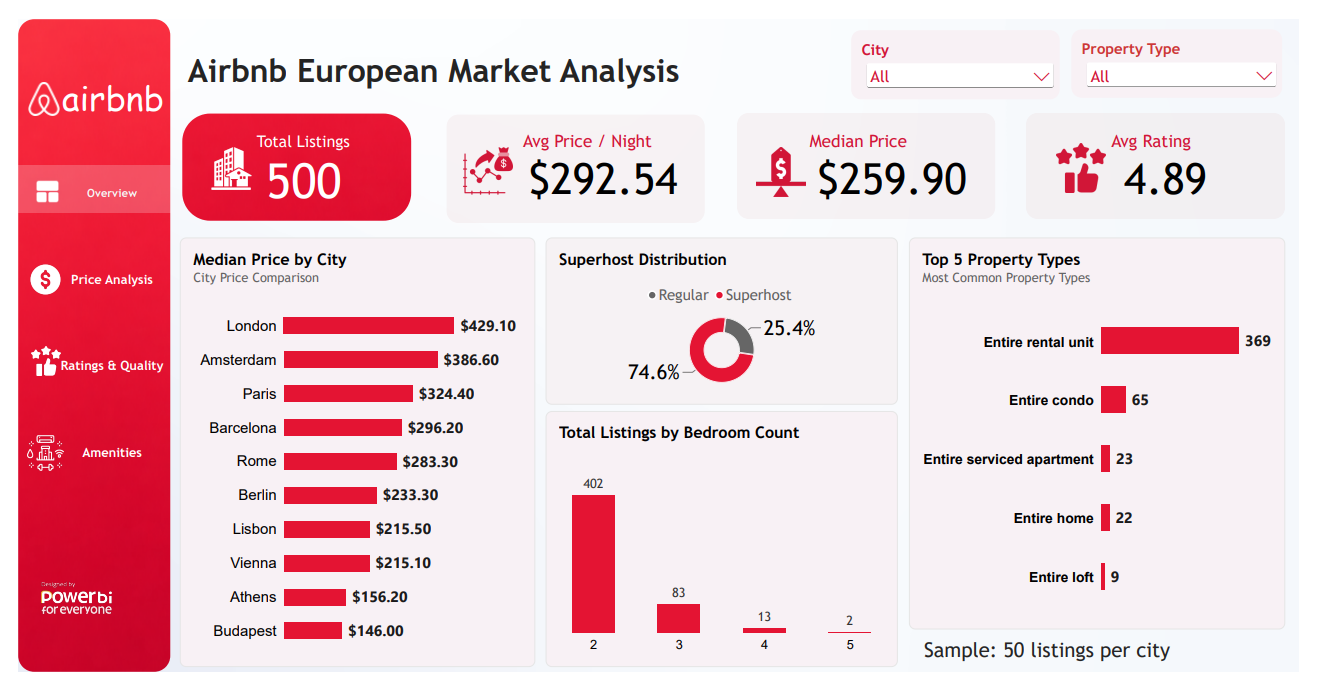

Layout of this report page (visuals, bound fields, positions):
{"tool":"powerbi","page":{"name":"Overview","canvas":[1600,816],"ordinal":0},"visuals":[{"type":"image","box":[0,0,189.5,816],"z":0},{"type":"image","box":[205.5,118.3,285.9,133.3],"z":1000},{"type":"cardVisual","fields":{"Data":["_Measures.Listings Count"]},"box":[294.3,159,164.9,84.6],"z":2000},{"type":"textbox","title":"Airbnb European Market Analysis","box":[211.6,41.3,858.5,46.5],"z":3000},{"type":"textbox","title":"Total Listings","box":[297.5,141.4,206.5,22.4],"z":4000},{"type":"image","box":[239.2,144.4,55,84.6],"z":5000},{"type":"shape","box":[535,119,323.4,135.9],"z":6000},{"type":"cardVisual","fields":{"Data":["_Measures.Avg Price"]},"box":[621,163.8,225.4,70.5],"z":7000},{"type":"textbox","title":"Avg Price / Night","box":[631.3,139.7,204.7,27.5],"z":8000},{"type":"image","box":[536.4,158.9,99.6,61],"z":9000},{"type":"shape","box":[18.9,197.9,33.9,33.5],"z":9000,"group":"g1"},{"type":"image","box":[22.8,200.5,26.8,28.4],"z":9500,"group":"g1"},{"type":"image","box":[10.6,76.1,42.3,46.5],"z":10000},{"type":"image","box":[29.1,681.7,87.4,82.1],"z":11000},{"type":"textbox","title":"airbnb","box":[55.1,67.7,148,66.1],"z":12000},{"type":"shape","box":[898,117.3,323.4,132.5],"z":13000},{"type":"cardVisual","fields":{"Data":["_Measures.Median Price"]},"box":[982.3,167.2,234,63.7],"z":14000},{"type":"textbox","title":"Median Price","box":[989.2,139.7,139.4,22.4],"z":15000},{"type":"image","box":[879,160.3,148,61.9],"z":16000},{"type":"donutChart","title":"Superhost Distribution","fields":{"Series":["GOLD fact_listings.Host Type"],"Y":["CountNonNull(GOLD fact_listings.listing_id)"]},"box":[658.6,273.1,440.9,209.4],"z":17000},{"type":"shape","box":[1259.3,117.3,323.4,132.5],"z":18000},{"type":"cardVisual","fields":{"Data":["_Measures.Avg Rating"]},"box":[1365.9,155.2,175.5,89.5],"z":19000},{"type":"textbox","title":"Avg Rating","box":[1365.9,139.7,215.1,27.5],"z":20000},{"type":"image","box":[1252.4,155.2,151.4,61.9],"z":21000},{"type":"slicer","title":"City","fields":{"Values":["GOLD fact_listings.property_type"]},"box":[1040.9,14.5,260.2,85.1],"z":22000},{"type":"clusteredBarChart","title":"Median Price by City","fields":{"Category":["GOLD fact_listings.city"],"Y":["_Measures.Median Price"]},"box":[202.4,273.1,443.3,536.5],"z":23000},{"type":"clusteredBarChart","title":"Top 5 Property Types","fields":{"Category":["GOLD fact_listings.property_type"],"Y":["_Measures.Listings Count"]},"box":[1113.2,273.1,469.8,490.2],"z":24000},{"type":"slicer","title":"Property Type","fields":{"Values":["GOLD fact_listings.property_type"]},"box":[1315.6,12.9,263.4,85.1],"z":25000},{"type":"columnChart","title":"Total Listings by Bedroom Count","fields":{"Category":["GOLD fact_listings.bedrooms"],"Y":["_Measures.Listings Count"]},"box":[658.6,489.9,440.1,319.7],"z":26000},{"type":"textbox","title":"Sample: 50 listings per city","box":[1132.4,774.2,395.1,30.5],"z":27000},{"type":"group","id":"g1","title":"Group 1","box":[18.9,197.9,35.7,34.4],"z":28000},{"type":"image","box":[14.9,408.9,38.7,37.2],"z":29000},{"type":"pageNavigator","box":[26.8,168,181.4,425.3],"z":30000},{"type":"shape","box":[0,182.9,190.5,59],"z":31000},{"type":"image","box":[11.4,512.4,45.7,59],"z":32000},{"type":"image","box":[13.4,304.8,41.6,40.1],"z":33000}]}

Visuals, with their boxes in screenshot pixels (x1, y1, x2, y2), scaled from the page's 1600x816 canvas onto the 1317x690 screenshot:
image: (0,0,156,689)
image: (169,100,404,213)
cardVisual - _Measures.Listings Count: (242,134,378,206)
"Airbnb European Market Analysis" textbox: (174,35,881,74)
"Total Listings" textbox: (245,120,415,139)
image: (197,122,242,194)
shape: (440,101,707,216)
cardVisual - _Measures.Avg Price: (511,139,697,198)
"Avg Price / Night" textbox: (520,118,688,141)
image: (442,134,524,186)
shape: (16,167,43,196)
image: (19,170,41,194)
image: (9,64,44,104)
image: (24,576,96,646)
"airbnb" textbox: (45,57,167,113)
shape: (739,99,1005,211)
cardVisual - _Measures.Median Price: (809,141,1001,195)
"Median Price" textbox: (814,118,929,137)
image: (724,136,845,188)
"Superhost Distribution" donutChart: (542,231,905,408)
shape: (1037,99,1303,211)
cardVisual - _Measures.Avg Rating: (1124,131,1269,207)
"Avg Rating" textbox: (1124,118,1301,141)
image: (1031,131,1156,184)
"City" slicer: (857,12,1071,84)
"Median Price by City" clusteredBarChart: (167,231,531,685)
"Top 5 Property Types" clusteredBarChart: (916,231,1303,645)
"Property Type" slicer: (1083,11,1300,83)
"Total Listings by Bedroom Count" columnChart: (542,414,904,685)
"Sample: 50 listings per city" textbox: (932,655,1257,680)
"Group 1" group: (16,167,45,196)
image: (12,346,44,377)
pageNavigator: (22,142,171,502)
shape: (0,155,157,205)
image: (9,433,47,483)
image: (11,258,45,292)
